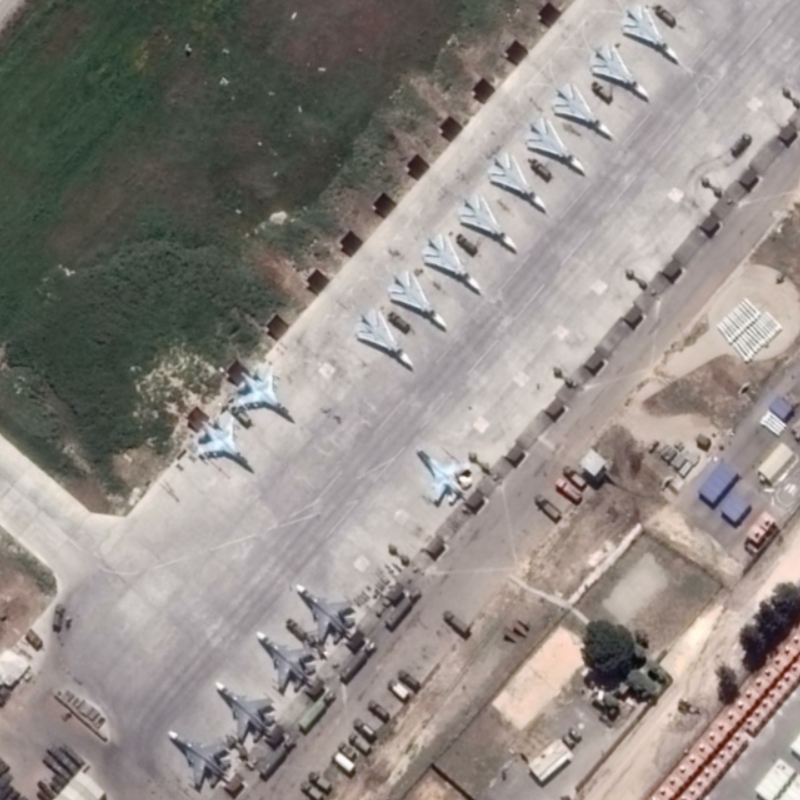A1: (228, 362, 302, 428), (191, 412, 257, 475), (415, 444, 477, 508)
A19: (293, 581, 361, 648), (212, 677, 278, 746), (254, 627, 318, 696), (164, 730, 235, 792)
A20: (484, 149, 552, 219), (350, 305, 418, 375), (616, 1, 684, 68), (454, 189, 521, 257), (548, 80, 618, 144), (385, 267, 452, 333), (587, 39, 653, 105), (420, 230, 486, 296), (523, 115, 589, 179)
